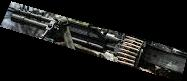gun: (0, 1, 187, 81)
